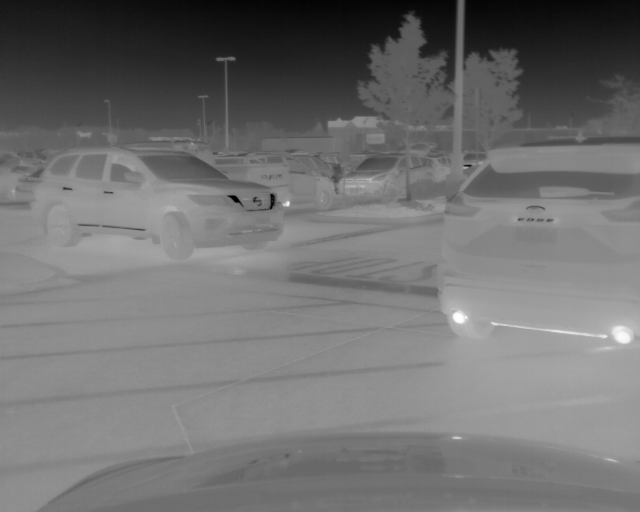car: (442, 136, 640, 356), (29, 145, 287, 258), (214, 154, 336, 211), (339, 150, 448, 202), (2, 154, 45, 206), (462, 152, 487, 169)
